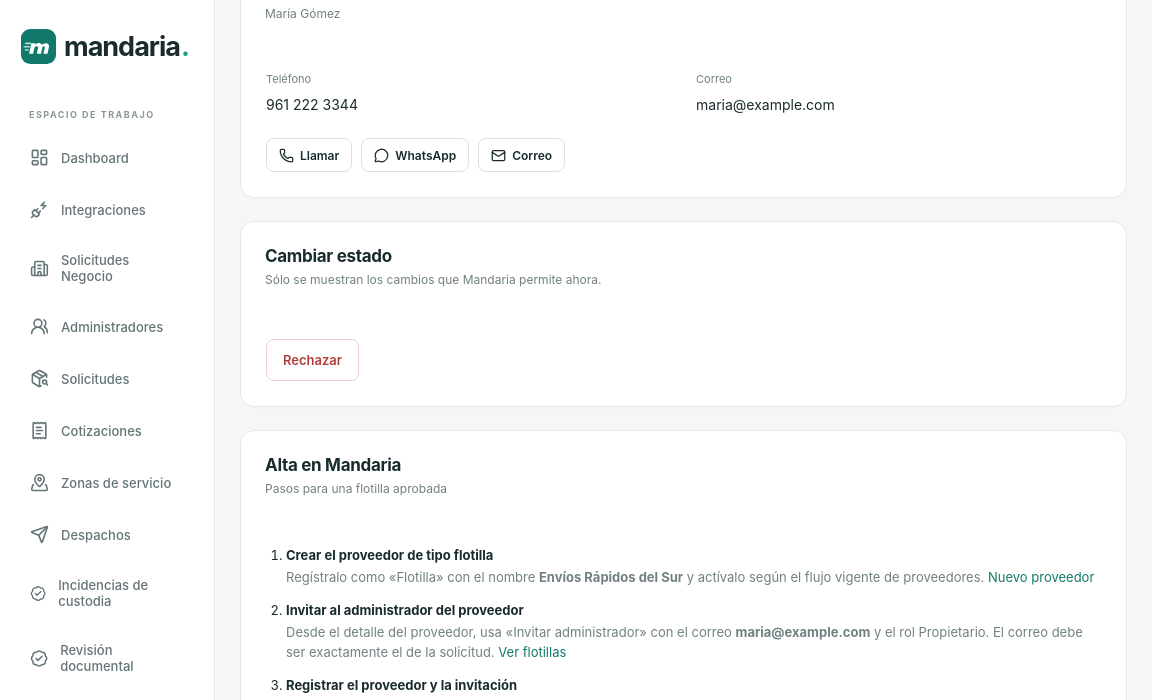
Test case: partner application detail › asks for a new note to reject an approved application
(page scrolled)
Click the button "Rechazar" at [312, 360], box left=266, top=338, right=359, bottom=380
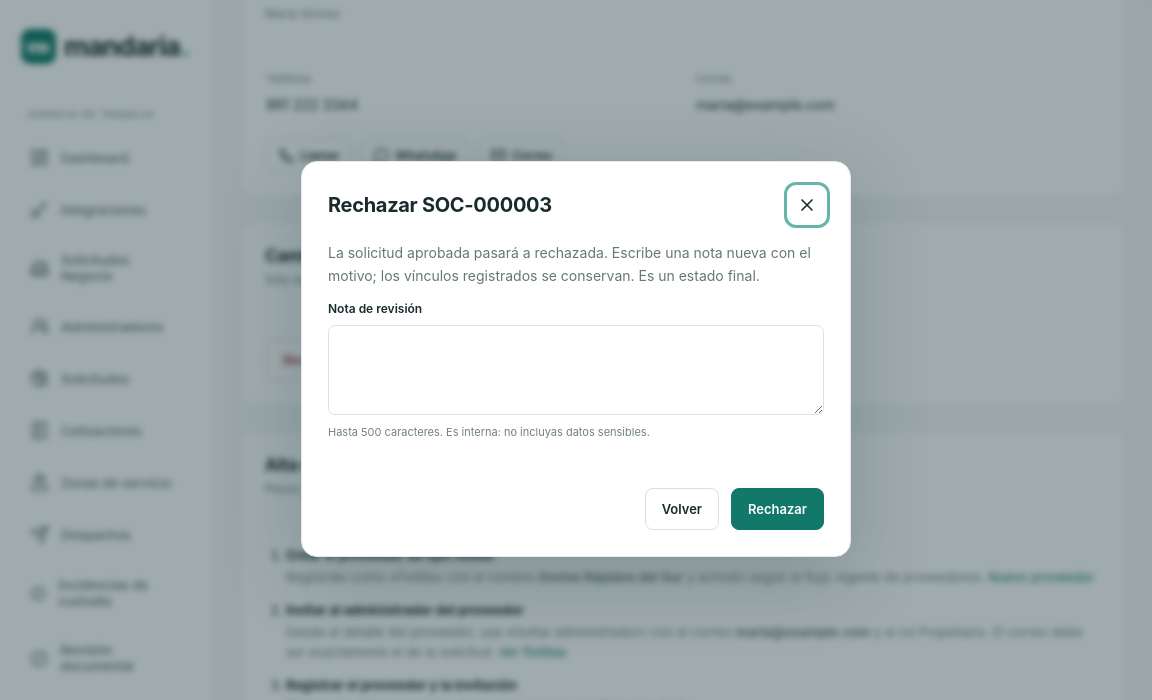
Now the dialog shows "Escribe una nota nueva con el motivo", box left=328, top=244, right=811, bottom=284
Now the text box is empty, box left=328, top=325, right=824, bottom=415
Click the button "Rechazar" at [778, 509], box left=731, top=488, right=824, bottom=530
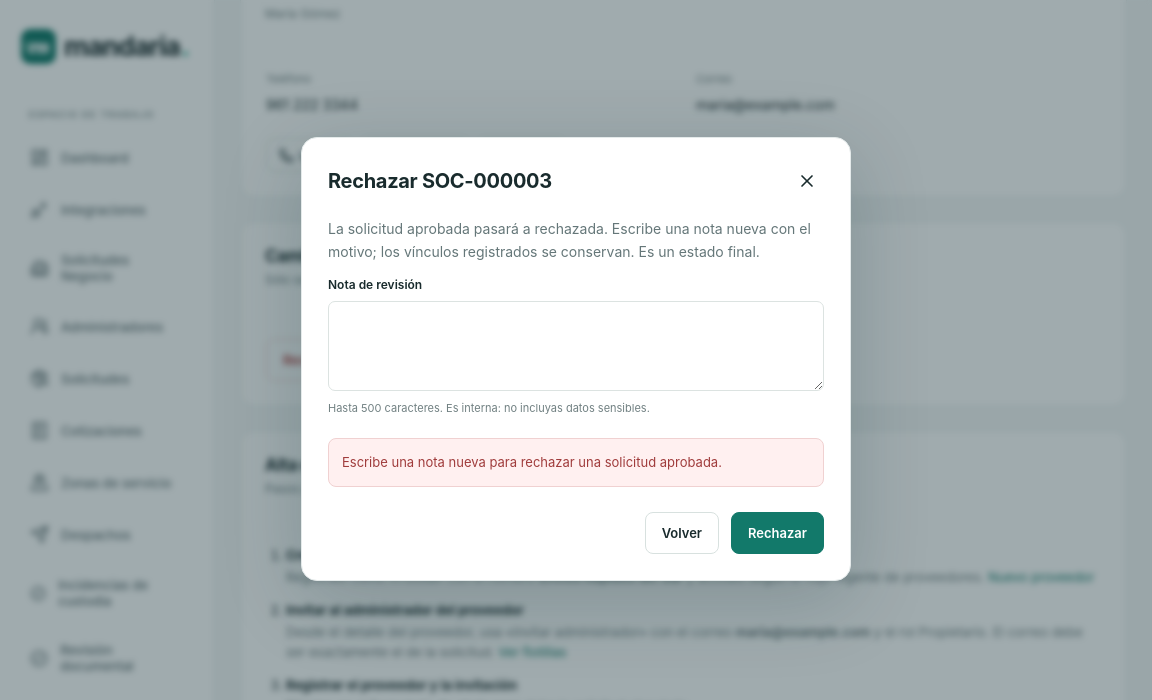
Now the message reads "Escribe una nota nueva para rechazar una solicitud aprobada.", box left=342, top=454, right=722, bottom=470
